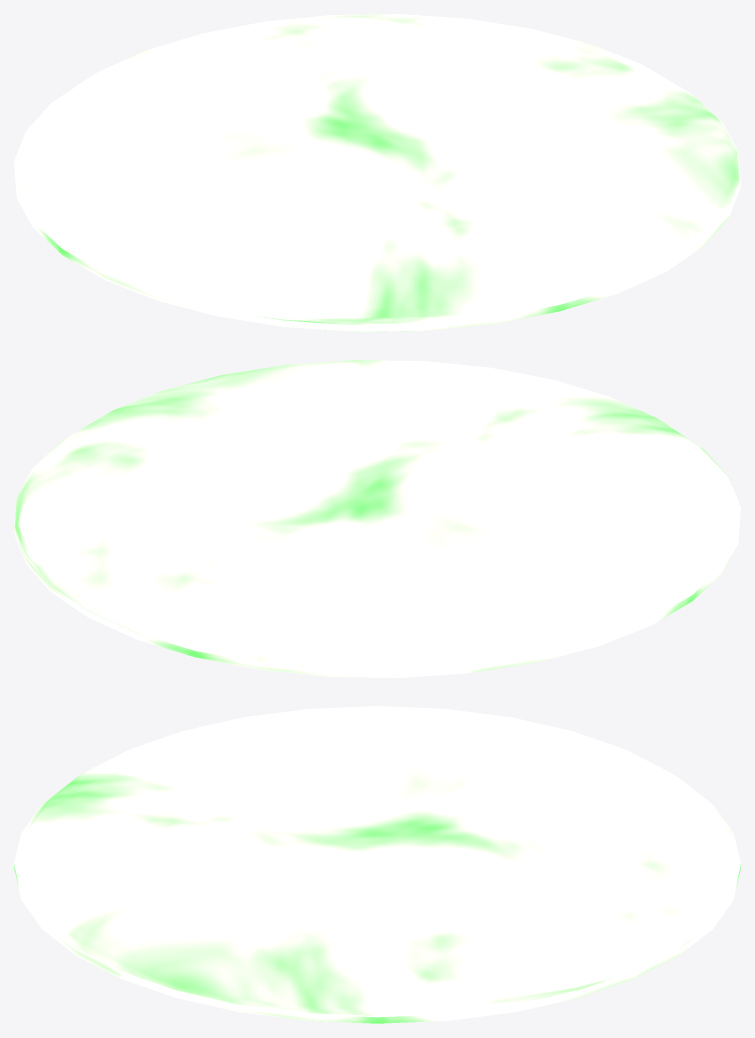
The model's file is Ground_Warpable.glb.
3 renders of one model, top to bottom at view 1: azimuth 30°, elevation 25°; view 2: azimuth 150°, elevation 25°; view 3: azimuth 270°, elevation 25°, orthographic.
Parts seen in each view (by area): view 1: Circle; view 2: Circle; view 3: Circle.
Part boxes in pixels (left/top/right/bottom): Circle: left=14, top=14, right=740, bottom=331; Circle: left=14, top=360, right=740, bottom=677; Circle: left=14, top=706, right=740, bottom=1023.
Bounding box in the file's own units: 1.94 × 0.1175 × 1.94.
1 material, 1 textured.
